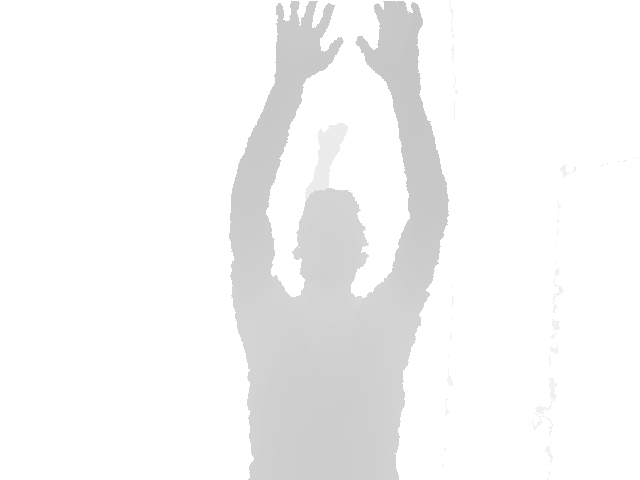hand: (275, 1, 344, 82), (355, 1, 423, 83), (316, 121, 347, 167)
head: (291, 187, 368, 295)
personw: (228, 1, 449, 480), (304, 121, 347, 204)
